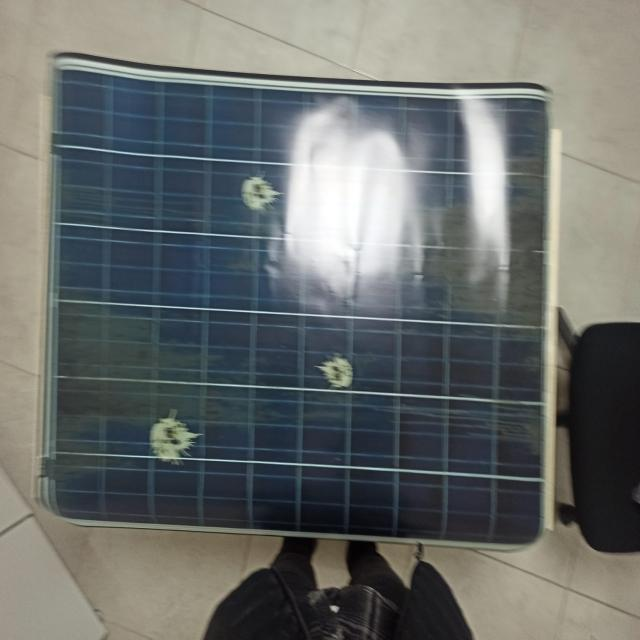faulty: (47, 49, 555, 552)
